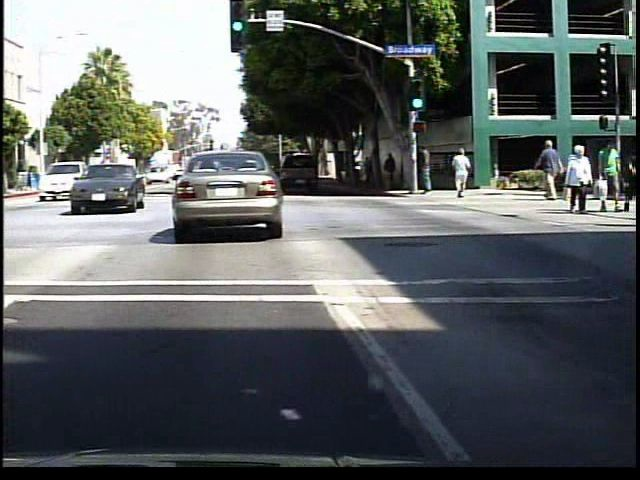person: (567, 141, 598, 214), (600, 139, 625, 215), (538, 139, 567, 201), (453, 144, 478, 201), (419, 141, 439, 200), (386, 149, 403, 192), (366, 153, 380, 189)
